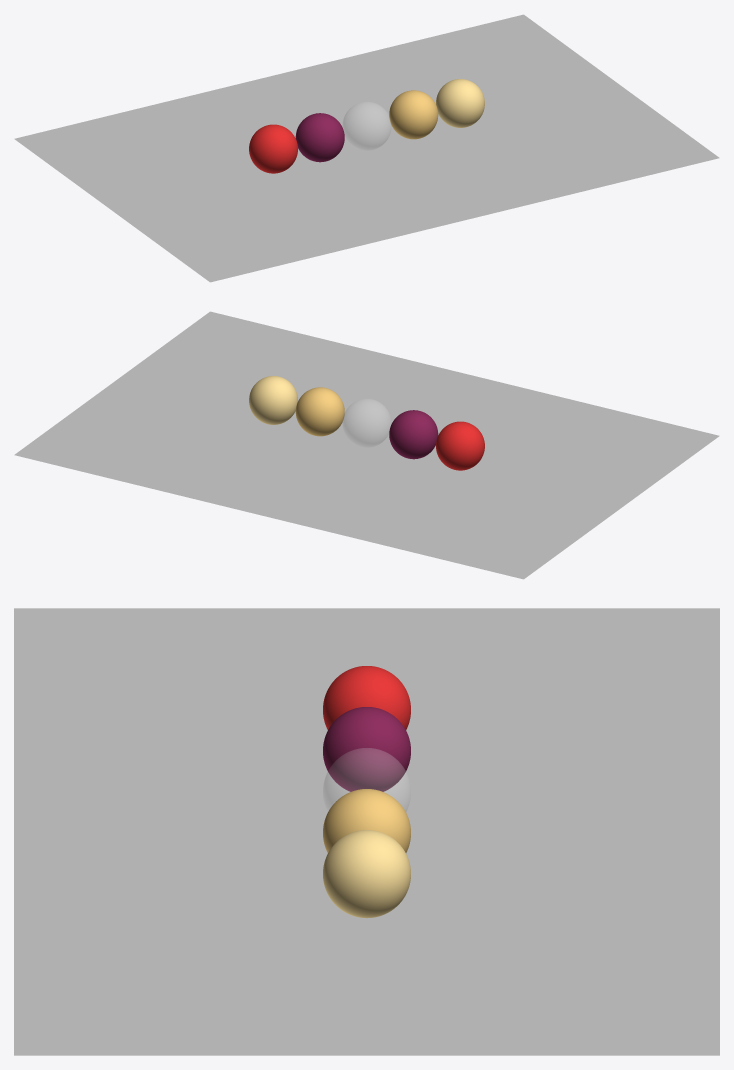
The model's file is showcase.gltf.
3 renders of one model, top to bottom at view 1: azimuth 30°, elevation 25°; view 2: azimuth 150°, elevation 25°; view 3: azimuth 270°, elevation 25°, orthographic. The views are drawn at different scales.
Bounding box in the file's own units: 24 × 2 × 16.
